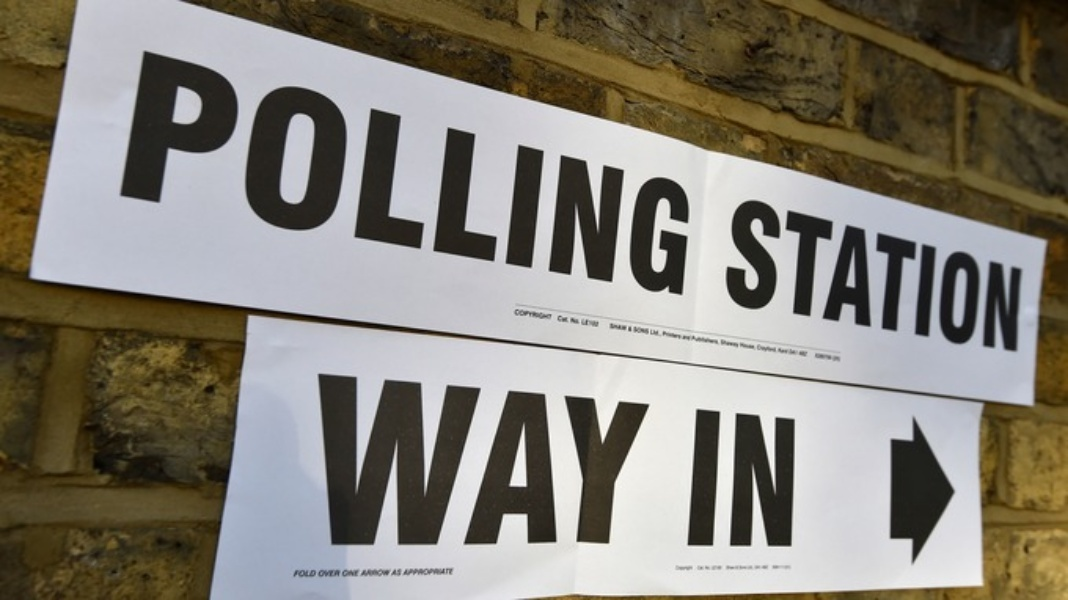text: (145, 44, 160, 302), (161, 44, 176, 302), (177, 44, 192, 302), (193, 44, 208, 302), (209, 44, 224, 302), (225, 44, 240, 302), (241, 44, 256, 302), (257, 44, 272, 302), (273, 44, 288, 302), (289, 44, 304, 302), (305, 44, 320, 302), (321, 44, 336, 302), (337, 44, 352, 302), (353, 44, 368, 302), (369, 44, 384, 302), (385, 44, 400, 302), (401, 44, 416, 302), (417, 44, 432, 302), (433, 44, 448, 302), (449, 44, 464, 302), (465, 44, 480, 302), (481, 44, 496, 302), (497, 44, 512, 302), (513, 44, 528, 302), (529, 44, 544, 302), (545, 44, 560, 302), (561, 44, 576, 302), (577, 44, 592, 302), (593, 44, 608, 302), (609, 44, 624, 302), (625, 44, 640, 302), (641, 44, 656, 302), (657, 44, 672, 302), (673, 44, 688, 302), (321, 366, 336, 549), (337, 366, 352, 549), (353, 366, 368, 549), (369, 366, 384, 549), (385, 366, 400, 549), (401, 366, 416, 549), (417, 366, 432, 549), (433, 366, 448, 549), (449, 366, 464, 549), (465, 366, 480, 549), (481, 366, 496, 549), (497, 366, 512, 549), (513, 366, 528, 549), (529, 366, 544, 549), (545, 366, 560, 549), (561, 366, 576, 549), (577, 366, 592, 549), (593, 366, 608, 549), (609, 366, 624, 549), (625, 366, 640, 549), (737, 194, 752, 357), (753, 194, 768, 357), (769, 194, 784, 357), (785, 194, 800, 357), (801, 194, 816, 357), (817, 194, 832, 357), (833, 194, 848, 357), (849, 194, 864, 357), (865, 194, 880, 357), (881, 194, 896, 357), (897, 194, 912, 357), (913, 194, 928, 357), (929, 194, 944, 357), (945, 194, 960, 357), (961, 194, 976, 357), (977, 194, 992, 357), (993, 194, 1008, 357), (1009, 194, 1024, 357), (705, 409, 720, 547), (721, 409, 736, 547), (737, 409, 752, 547), (753, 409, 768, 547), (769, 409, 784, 547), (641, 366, 651, 549), (689, 44, 696, 302), (692, 409, 704, 547), (313, 366, 320, 549), (785, 409, 794, 547), (140, 44, 144, 302), (625, 319, 640, 365), (641, 319, 656, 365), (657, 319, 672, 365), (673, 319, 688, 365), (689, 319, 704, 365), (705, 319, 720, 365), (721, 319, 736, 365), (737, 319, 752, 365), (753, 319, 768, 365), (769, 319, 784, 365), (785, 319, 800, 365), (801, 319, 816, 365), (817, 319, 832, 365), (732, 194, 736, 357), (1025, 194, 1029, 357), (610, 319, 624, 365), (833, 319, 842, 365), (561, 313, 576, 330), (577, 313, 592, 330), (529, 308, 544, 321), (514, 308, 528, 321), (593, 313, 602, 330), (321, 569, 336, 579), (369, 568, 384, 577), (385, 568, 400, 577), (401, 568, 416, 577), (417, 568, 432, 577), (433, 568, 448, 577), (293, 569, 304, 580), (305, 569, 316, 580), (341, 569, 352, 579), (689, 564, 704, 571), (705, 564, 720, 571), (721, 564, 736, 571), (737, 564, 752, 571), (753, 564, 768, 571), (769, 564, 784, 571), (674, 564, 688, 571), (545, 308, 552, 321), (556, 313, 560, 330), (353, 569, 359, 579), (362, 568, 368, 577), (785, 564, 792, 571), (449, 568, 454, 577), (337, 569, 341, 579), (318, 569, 320, 579)
